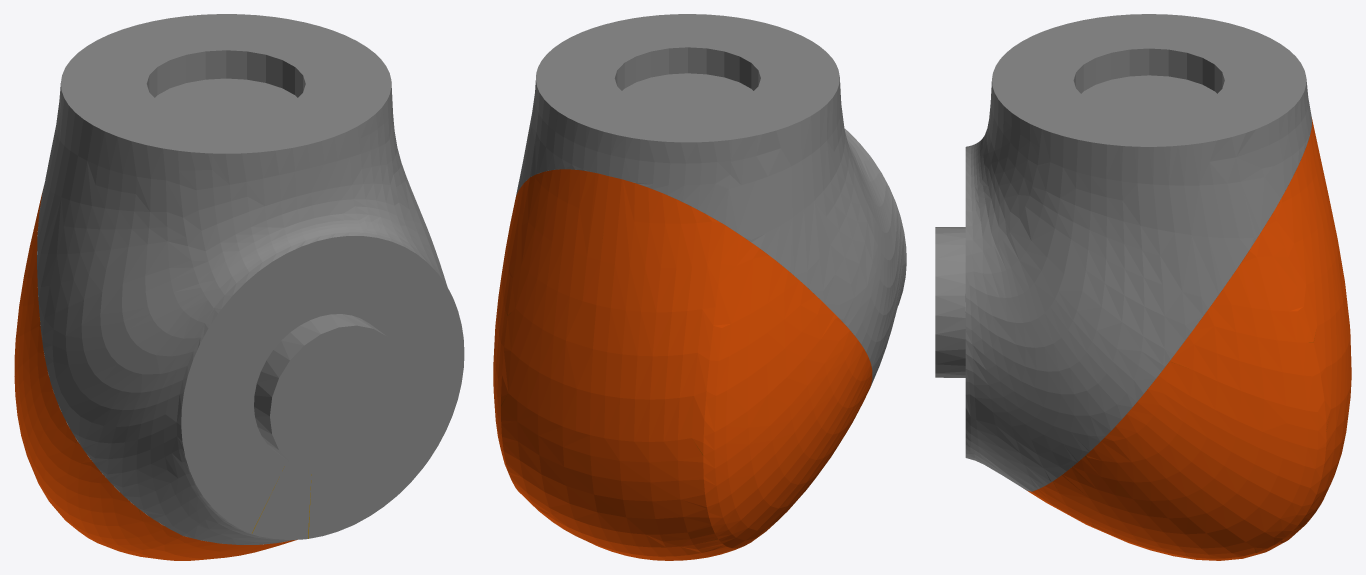
3 renders of one model, left to right at view 1: azimuth 30°, elevation 25°; view 2: azimuth 150°, elevation 25°; view 3: azimuth 270°, elevation 25°, orthographic. The views are drawn at different scales.
Visible parts, largest first — view 1: ShapeIndexedFaceSet; view 2: ShapeIndexedFaceSet; view 3: ShapeIndexedFaceSet.
Boxes of the visible parts, x1,y1,x2,y2 form: ShapeIndexedFaceSet: (14,14,464,560); ShapeIndexedFaceSet: (493,14,906,560); ShapeIndexedFaceSet: (935,14,1351,560).
Size of the model in its own units: 0.1322 by 0.1673 by 0.1376.
